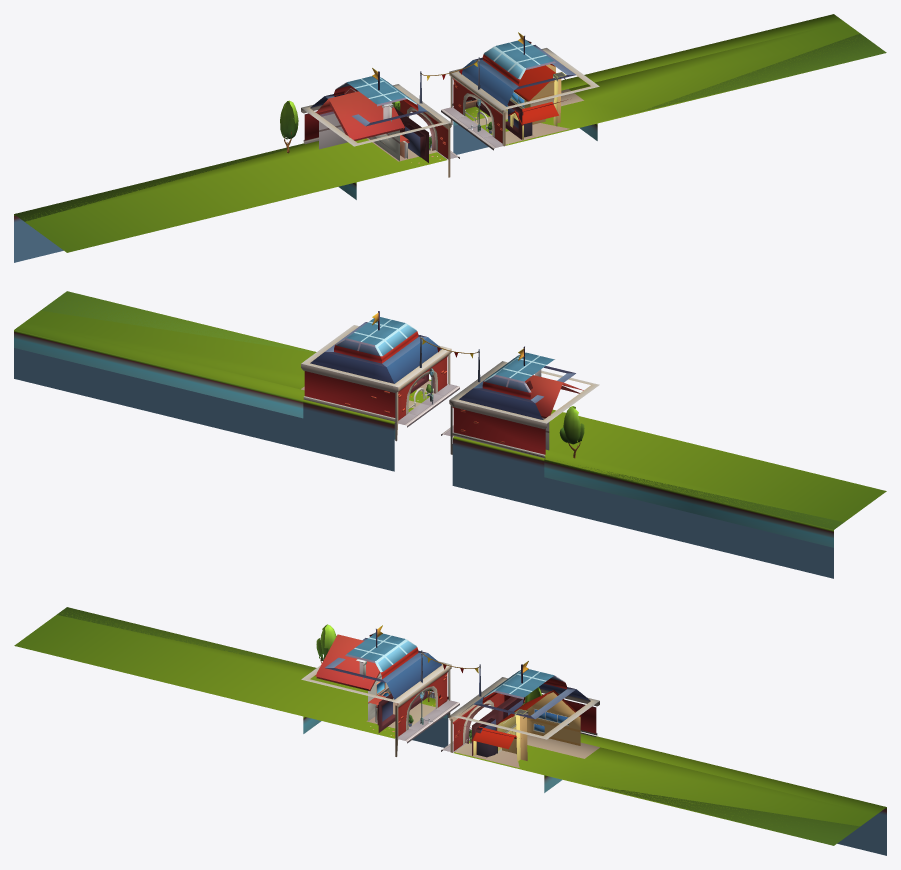
File: Tom1_SuburbanSet01_10 1.fbx
3 views of the same model, one above another, from view 1: azimuth 30°, elevation 25°; view 2: azimuth 150°, elevation 25°; view 3: azimuth 330°, elevation 25° (orthographic).
Parts seen in each view (by area): view 1: tom1_SuburbanSet01_10, Tom1_SideArchSet01_10; view 2: tom1_SuburbanSet01_10, Tom1_SideArchSet01_10; view 3: tom1_SuburbanSet01_10, Tom1_SideArchSet01_10.
Part boxes in pixels (left/top/right/bottom): tom1_SuburbanSet01_10: left=14, top=14, right=876, bottom=262; Tom1_SideArchSet01_10: left=14, top=32, right=886, bottom=221; tom1_SuburbanSet01_10: left=14, top=292, right=886, bottom=578; Tom1_SideArchSet01_10: left=14, top=291, right=843, bottom=547; tom1_SuburbanSet01_10: left=14, top=607, right=886, bottom=855; Tom1_SideArchSet01_10: left=57, top=607, right=860, bottom=845.
Bounding box in the file's own units: 8921 × 1346 × 1000.
